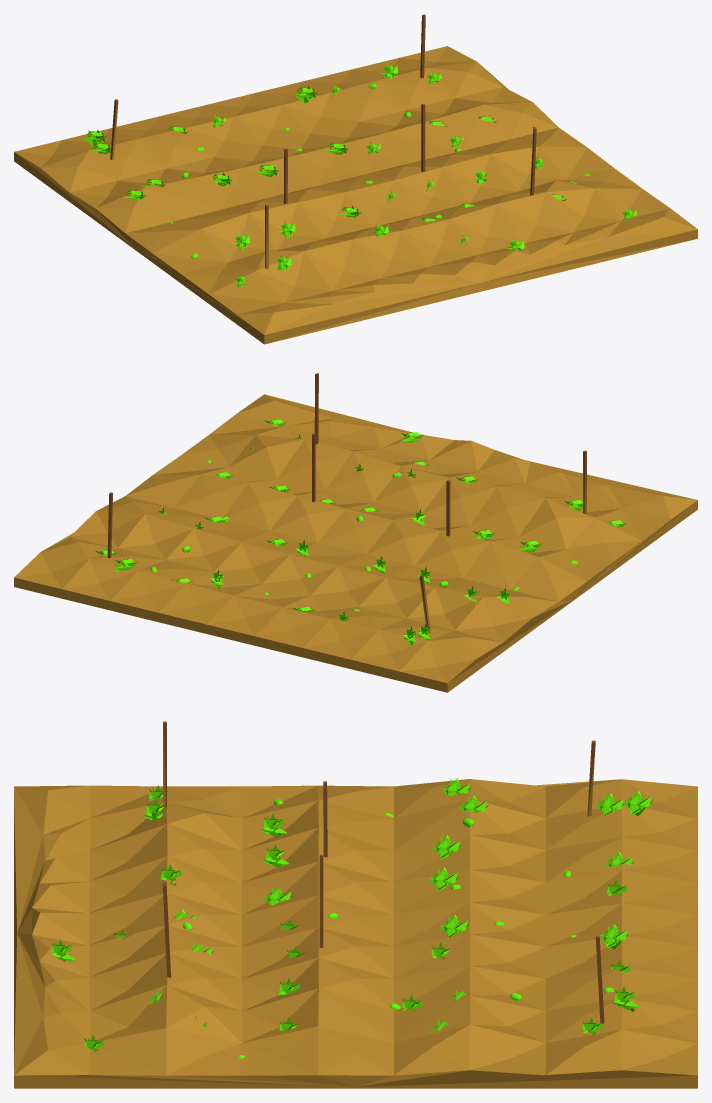
Rendered from farm.gltf.
The picture shows the model from 3 angles, top to bottom: view 1: azimuth 30°, elevation 25°; view 2: azimuth 150°, elevation 25°; view 3: azimuth 270°, elevation 25°; orthographic projection. The views are drawn at different scales.
Parts seen in each view (by area): view 1: Farm; view 2: Farm; view 3: Farm.
Part boxes in pixels (<box>): Farm: <box>14,14,697,344</box>; Farm: <box>14,373,697,692</box>; Farm: <box>14,721,697,1088</box>.
Bounding box in the file's own units: 3.98 × 0.853 × 3.95.
1 material, 1 textured.
